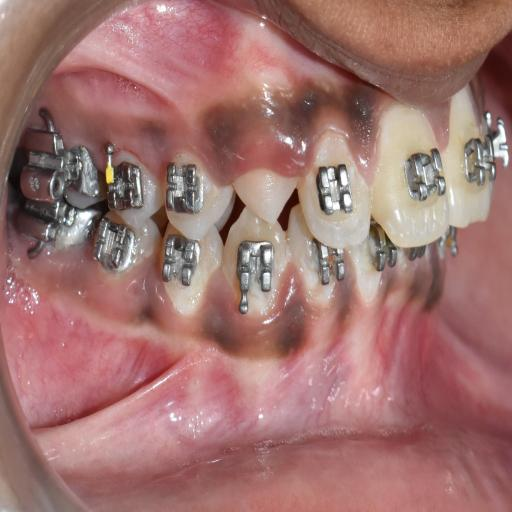correct_brace: (160, 142, 230, 246), (308, 152, 356, 220), (403, 144, 447, 206), (461, 126, 498, 189)
incorrect_brace: (291, 130, 372, 251), (161, 158, 203, 214)
